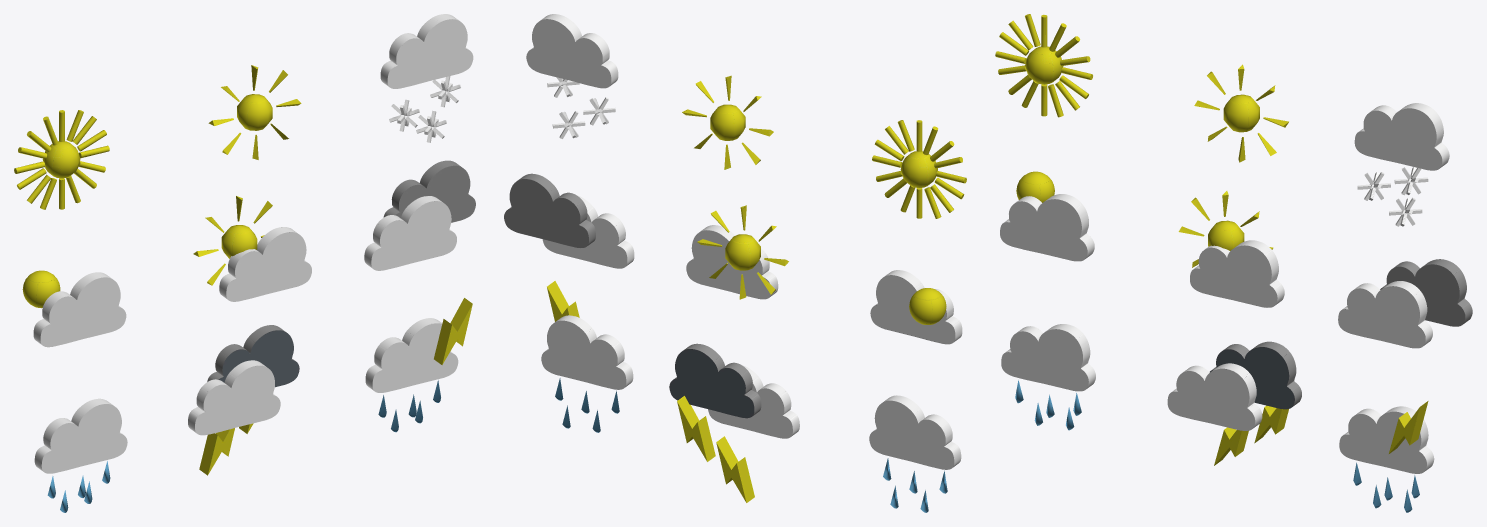
File: lightning.glb
The picture shows the model from 3 angles, left to right: view 1: azimuth 30°, elevation 25°; view 2: azimuth 150°, elevation 25°; view 3: azimuth 330°, elevation 25°; orthographic projection. The views are drawn at different scales.
Parts seen in each view (by area): view 1: lighting, cloudly, sun_cloud, snow, rain_lighting, rain, cloud, sun, sun_2, sun_3; view 2: lighting, cloudly, rain_lighting, snow, sun_cloud, rain, sun, cloud, sun_2, sun_3; view 3: lighting, cloudly, snow, sun_cloud, rain_lighting, rain, cloud, sun, sun_2, sun_3.
Part boxes in pixels (<box>): lighting: <box>188,325,299,475</box>; cloudly: <box>364,160,475,270</box>; sun_cloud: <box>193,196,311,301</box>; snow: <box>380,14,473,142</box>; rain_lighting: <box>365,298,472,432</box>; rain: <box>34,398,127,512</box>; cloud: <box>33,272,126,347</box>; sun: <box>14,110,109,209</box>; sun_2: <box>208,65,301,159</box>; sun_3: <box>22,270,60,308</box>; lighting: <box>669,343,799,502</box>; cloudly: <box>504,173,634,268</box>; rain_lighting: <box>541,281,633,432</box>; snow: <box>526,14,618,138</box>; sun_cloud: <box>686,205,788,299</box>; rain: <box>869,395,961,512</box>; sun: <box>872,120,966,218</box>; cloud: <box>870,270,962,344</box>; sun_2: <box>682,75,773,169</box>; sun_3: <box>909,288,946,324</box>; lighting: <box>1167,341,1301,465</box>; cloudly: <box>1338,259,1472,348</box>; snow: <box>1354,103,1449,226</box>; sun_cloud: <box>1178,191,1284,307</box>; rain_lighting: <box>1339,401,1434,512</box>; rain: <box>1001,324,1095,430</box>; cloud: <box>1000,194,1094,261</box>; sun: <box>995,14,1092,117</box>; sun_2: <box>1194,64,1288,162</box>; sun_3: <box>1016,171,1054,202</box>.
Bounding box in the file's own units: 122 × 106 × 18.6.
Materials: 10 (10 with a texture image).
